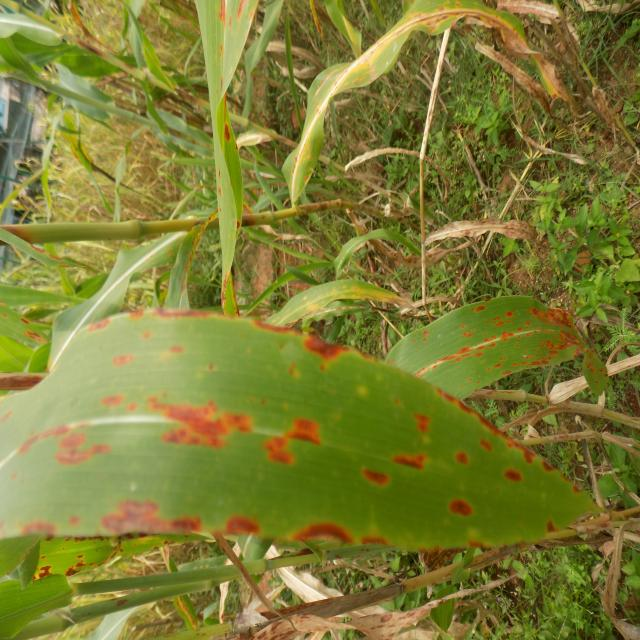millet_healthy: (35, 198, 231, 386), (0, 17, 138, 111)
millet_rust: (0, 300, 602, 565), (286, 0, 572, 229), (397, 294, 626, 396), (193, 0, 262, 316), (32, 512, 229, 585), (268, 280, 417, 343), (233, 605, 472, 640), (424, 211, 552, 259), (597, 514, 640, 640), (489, 0, 568, 21)
